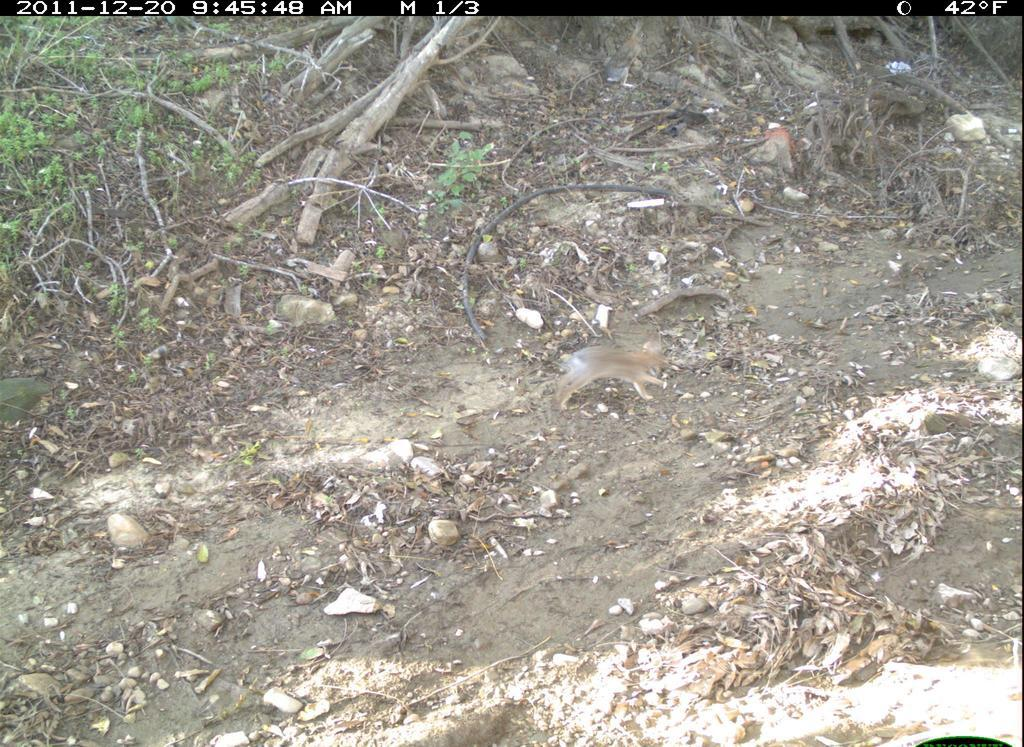rabbit: (536, 321, 680, 424)
